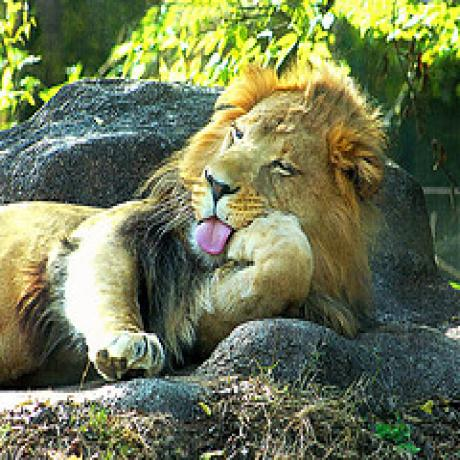Lion: (0, 60, 387, 388)
